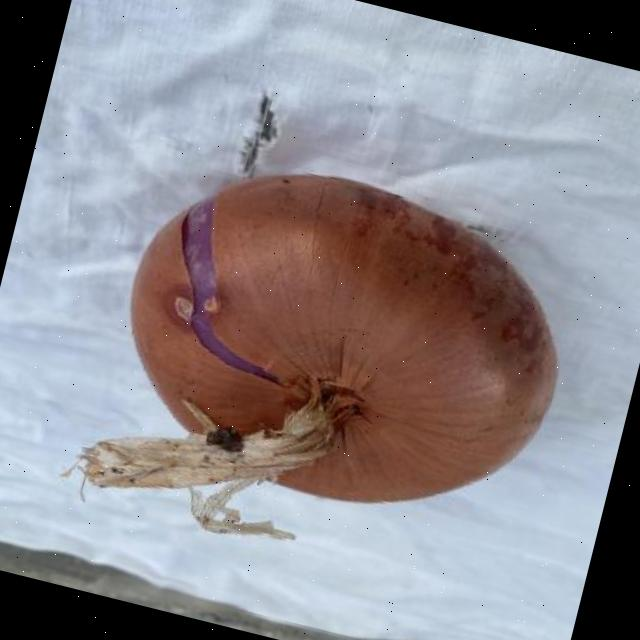Onion: (74, 173, 556, 538)
